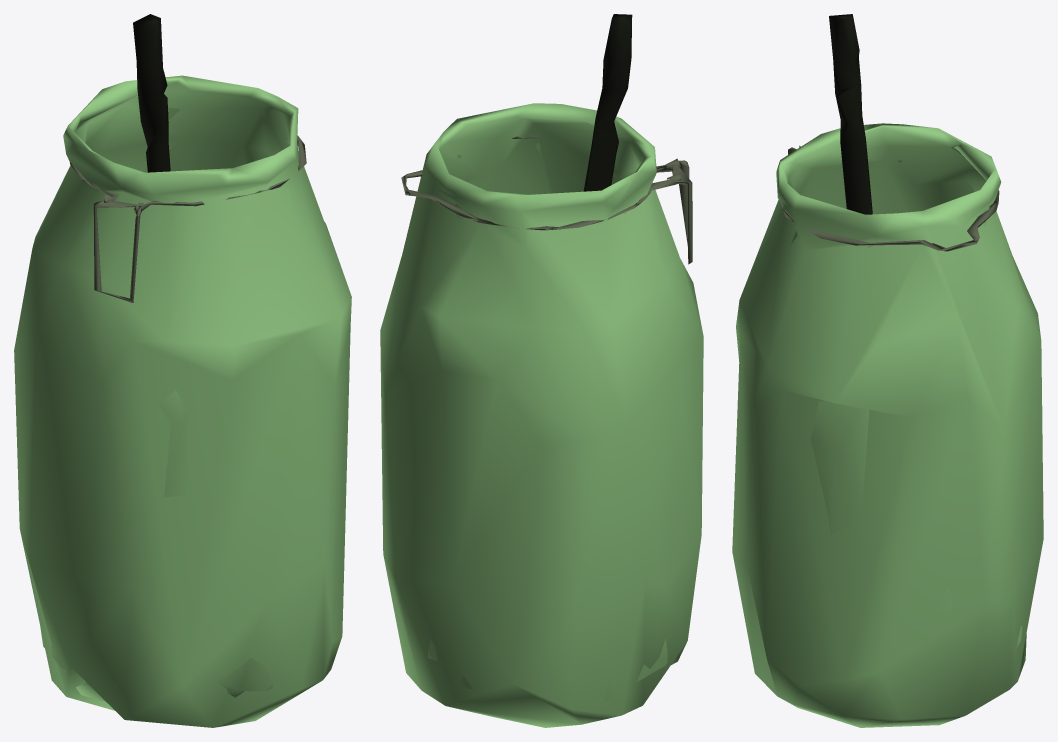
The model's file is HoneyStick_LOD2.fbx.
3 views of the same model, side by side, from view 1: azimuth 30°, elevation 25°; view 2: azimuth 150°, elevation 25°; view 3: azimuth 270°, elevation 25° (orthographic). The views are drawn at different scales.
Parts seen in each view (by area): view 1: HoneyStick_; view 2: HoneyStick_; view 3: HoneyStick_.
Boxes of the visible parts, <box> form: HoneyStick_: <box>14,14,351,727</box>; HoneyStick_: <box>380,14,703,727</box>; HoneyStick_: <box>732,14,1043,727</box>.
Size of the model in its own units: 19.61 by 44.28 by 19.59.
